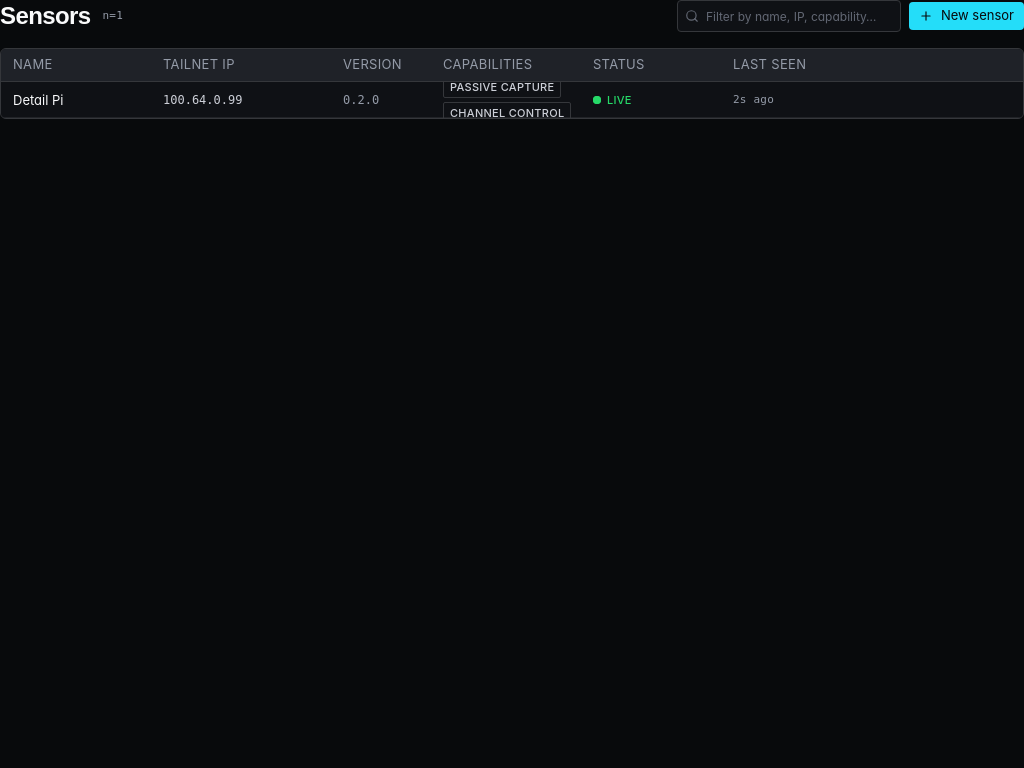
Scenario: SensorsView › opens the detail drawer when a row is clicked
Click the text "Detail Pi": [38, 100] box [13,90,64,110]
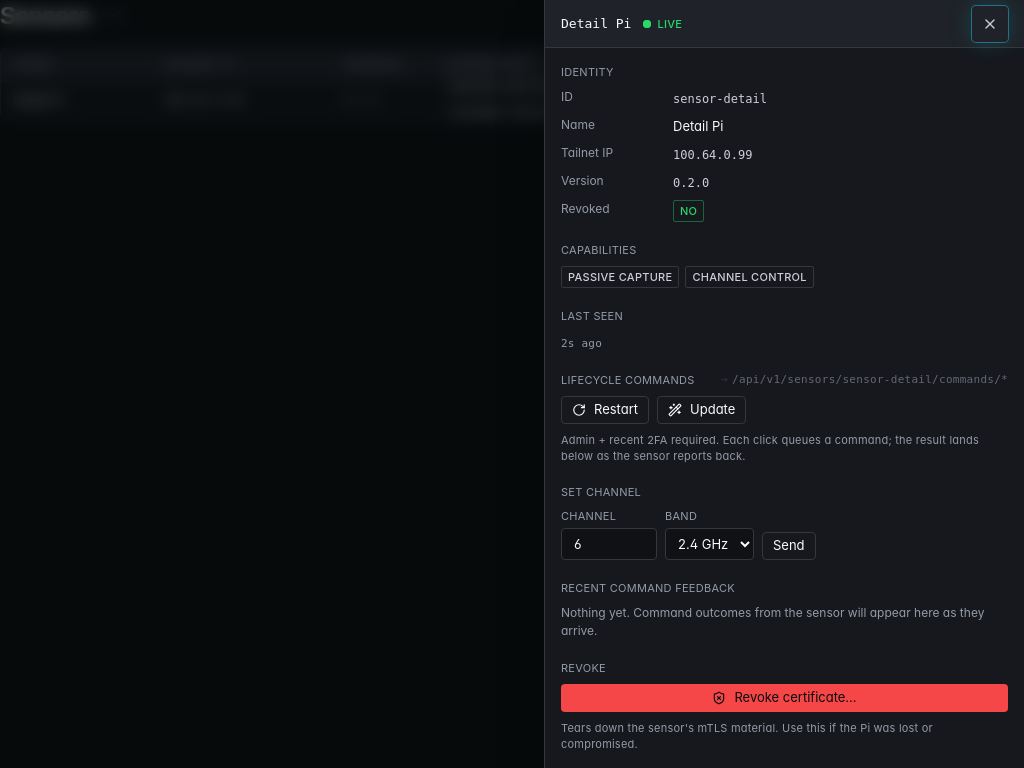
Expected: the 1st text "passive capture" is shown, [443,82,561,98]
Expected: the dialog is shown
Expected: the text "sensor-detail" is shown, [673,92,767,106]
